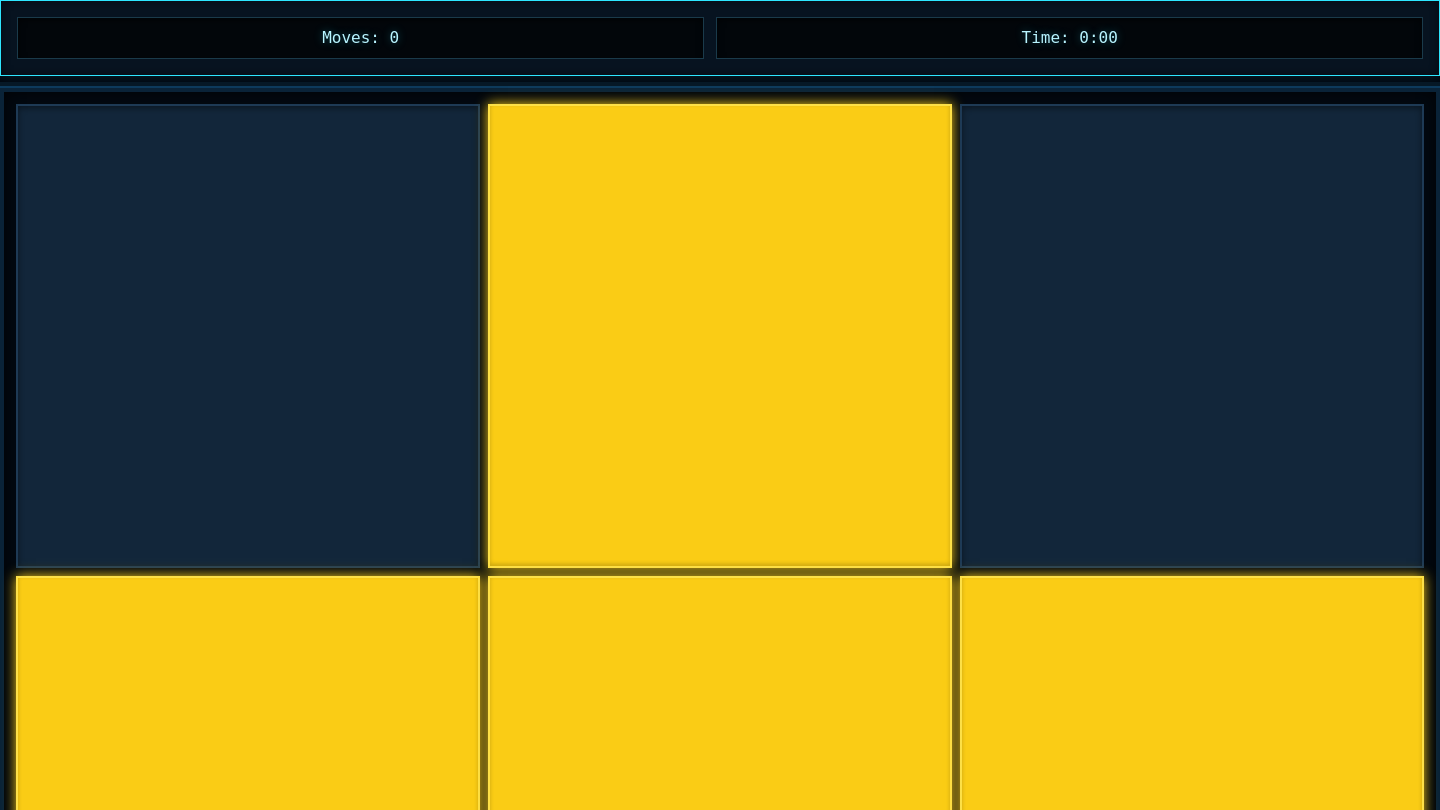
it: Game › shows the result, optimal count and name form after the win-sequence delay
Step 1. Click the button named "Row 1, Column 1" → (248, 336), box left=16, top=104, right=480, bottom=568
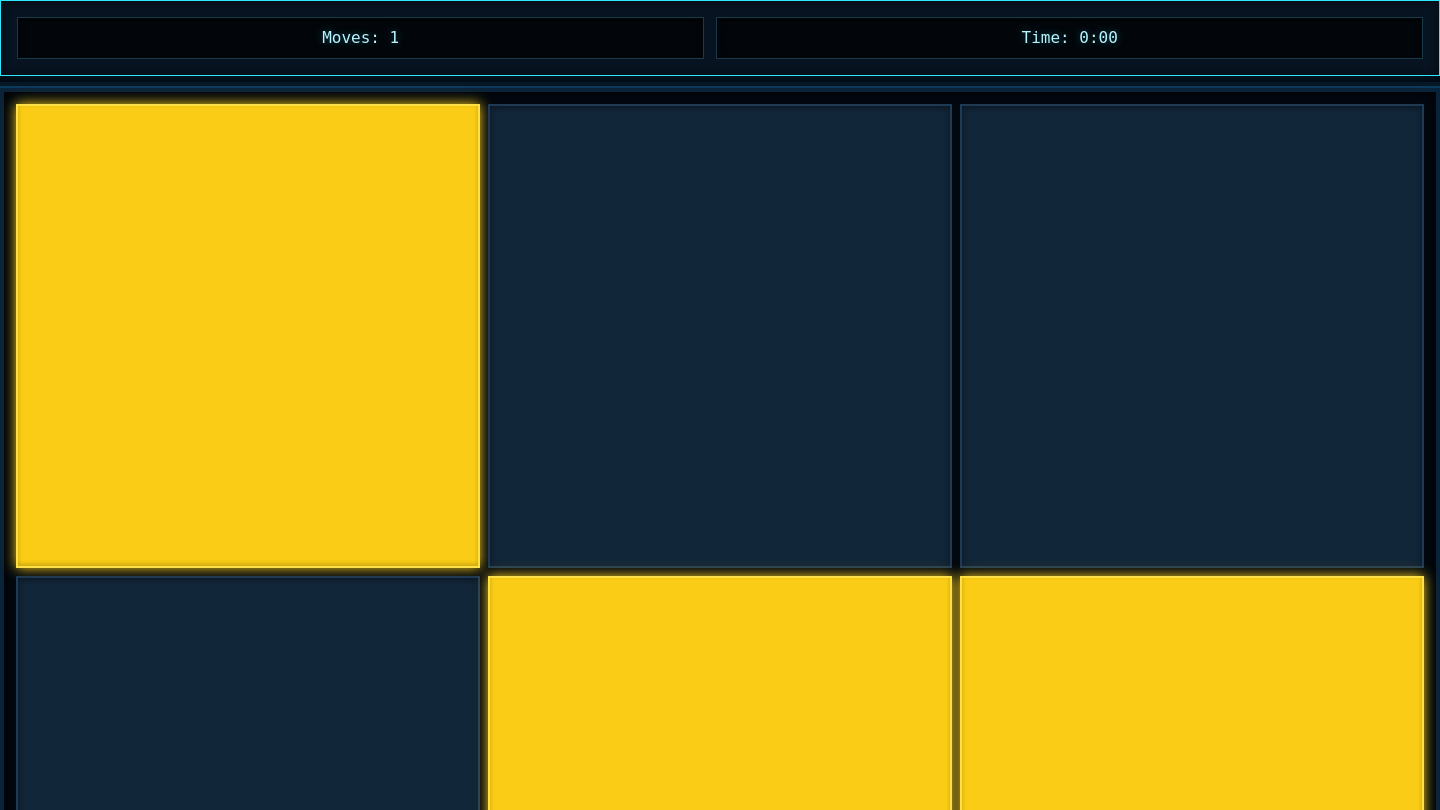
Step 2. Click the button named "Row 1, Column 2" → (720, 336), box left=488, top=104, right=952, bottom=568
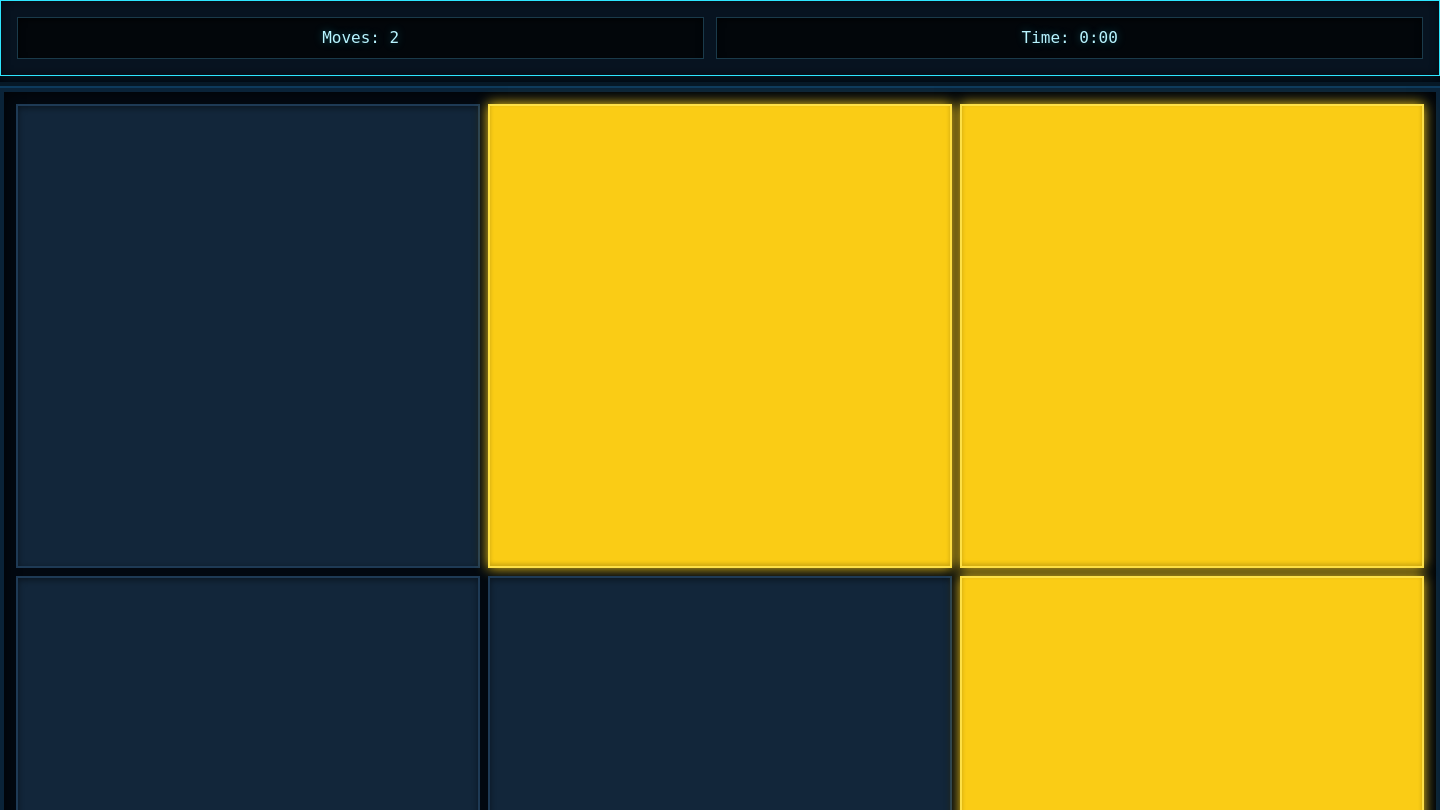
Step 3. Click the button named "Row 1, Column 3" → (1192, 336), box left=960, top=104, right=1424, bottom=568
Wait 1000 ms
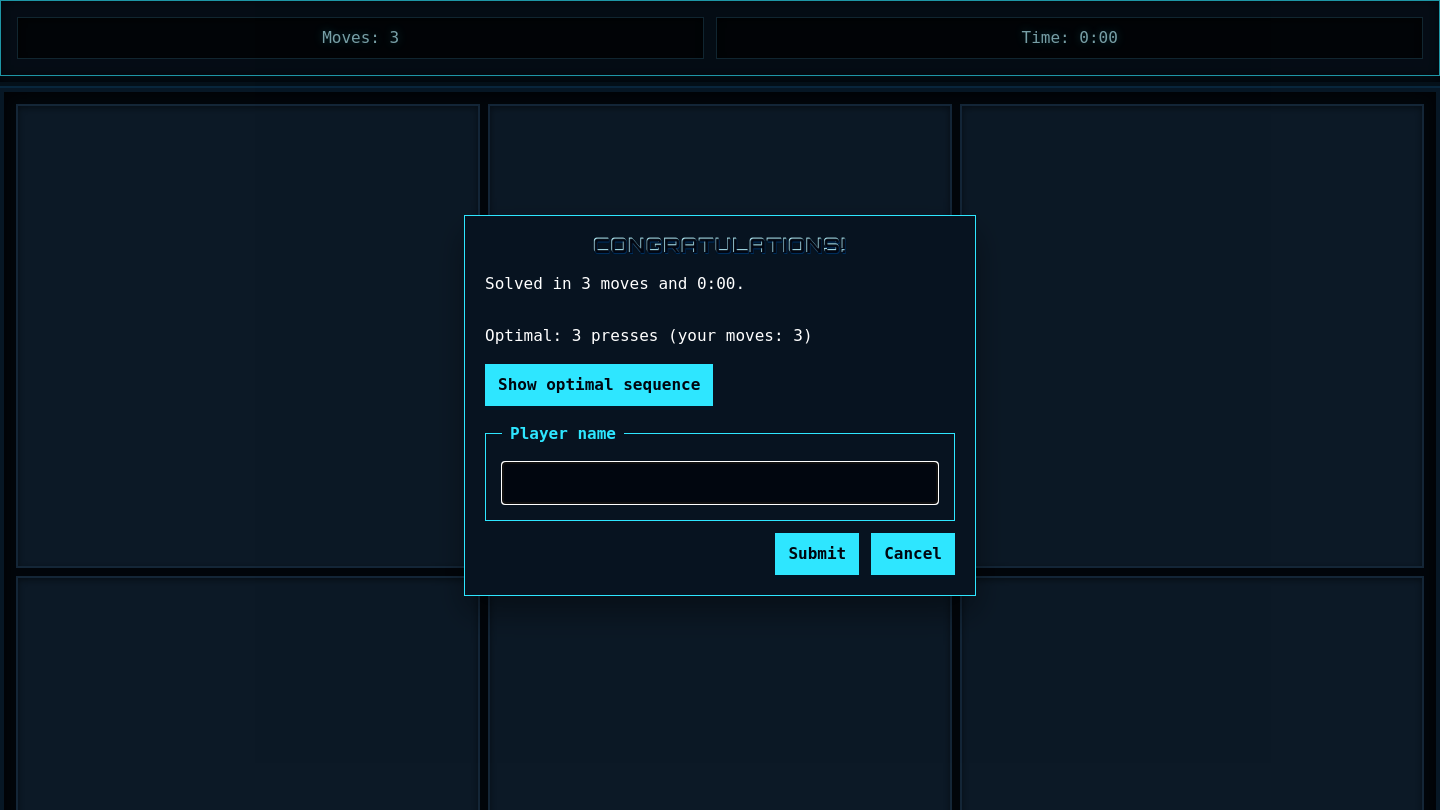
Expected: the text "Solved in 3 moves and 0:00." is shown, left=485, top=274, right=745, bottom=292
Expected: the text "Optimal: 3 presses (your moves: 3)" is shown, left=485, top=326, right=812, bottom=344
Expected: the field labelled "Player name" is shown, left=502, top=462, right=938, bottom=504
